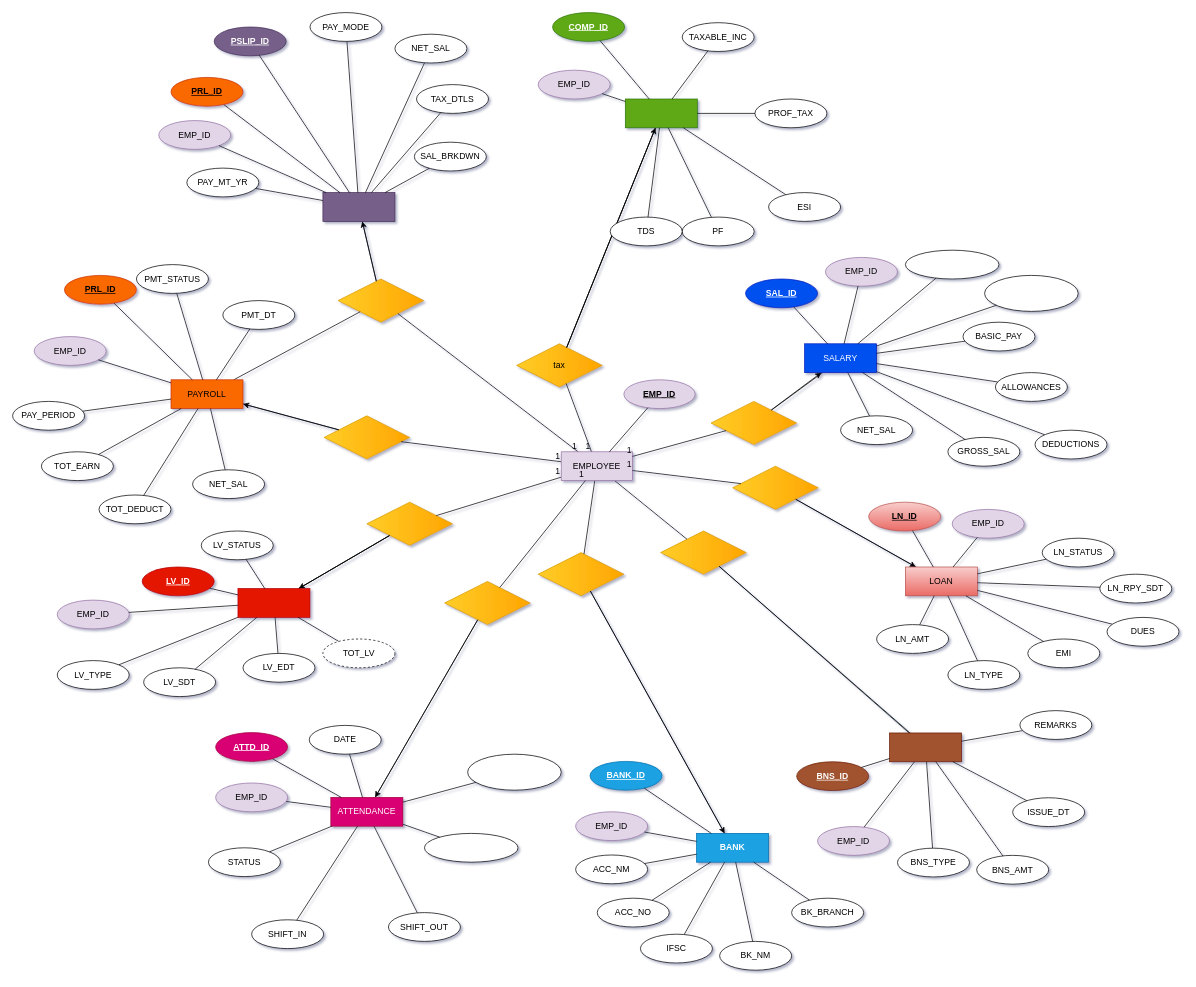
Image size: 1196x987. Some labels were removed from this diagram. Each missing label, with the centre of its shape:
"attends" belongs at [487,603].
"BONUS" belongs at [925,747].
"COMPLIANCE" belongs at [661,113].
"Earns" belongs at [753,423].
"generates" belongs at [380,300].
"gets" belongs at [366,437].
"has" belongs at [580,574].
"LEAVE" belongs at [273,602].
"on" belongs at [409,523].
"OVERTIME" belongs at [471,847].
"PAY_PERIOD_EDT" belongs at [1031,293].
"PAY_PERIOD_SDT" belongs at [952,264].
"recieves" belongs at [703,552].
"SALARY_SLIP" belongs at [358,206].
"takes" belongs at [775,487].
"TOT_WRKHRS" belongs at [514,771].
